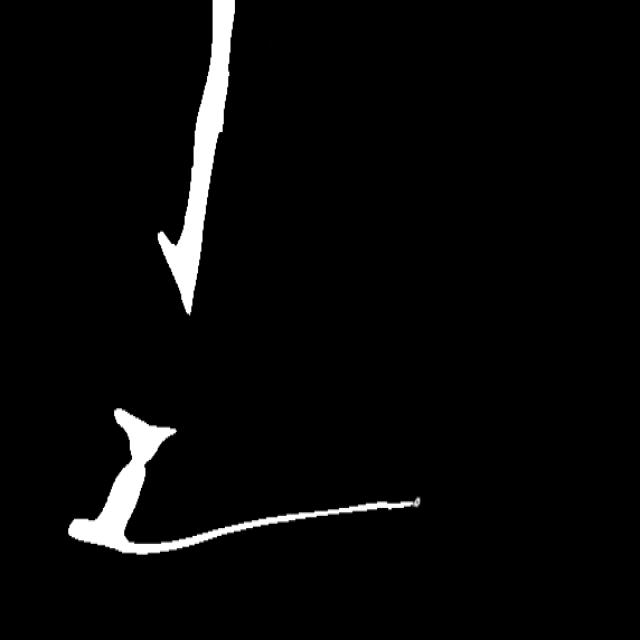stp: (406, 494, 424, 512)
